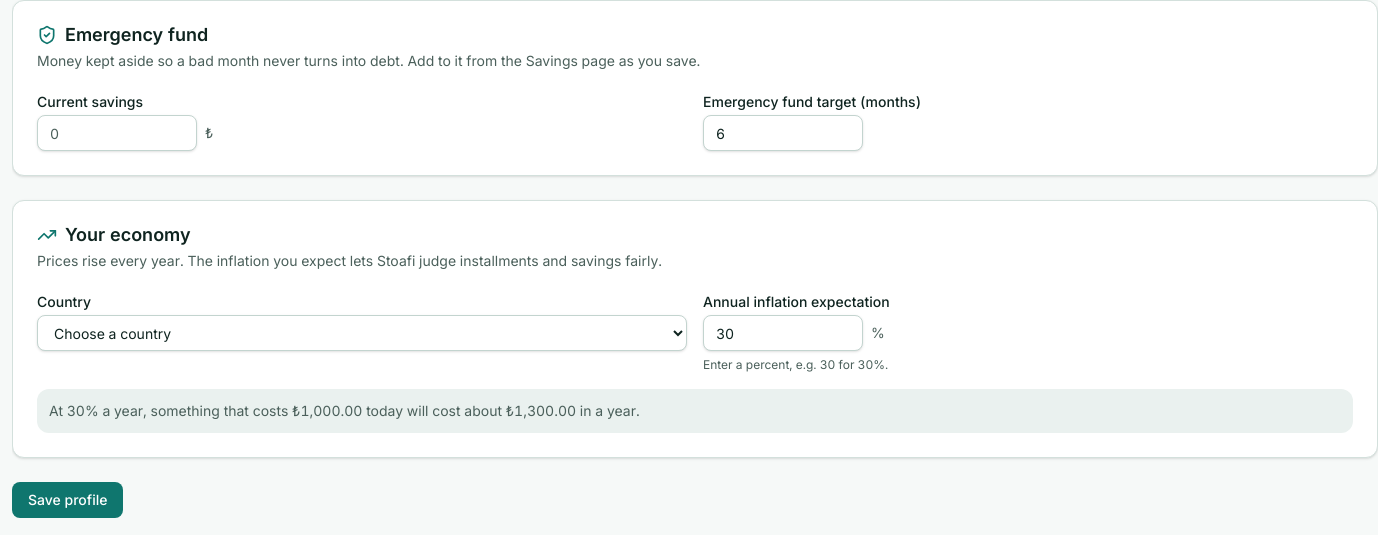
Test: ProfileForm settings › shows what inflation does to a price, and updates as the rate changes
Expected: the text with test id "inflation-insight" shows "₺1,300.00", [49,402,640,419]
Replace the text in the field labelled "Annual inflation expectation" with "50": (783, 333) [703,315,863,351]
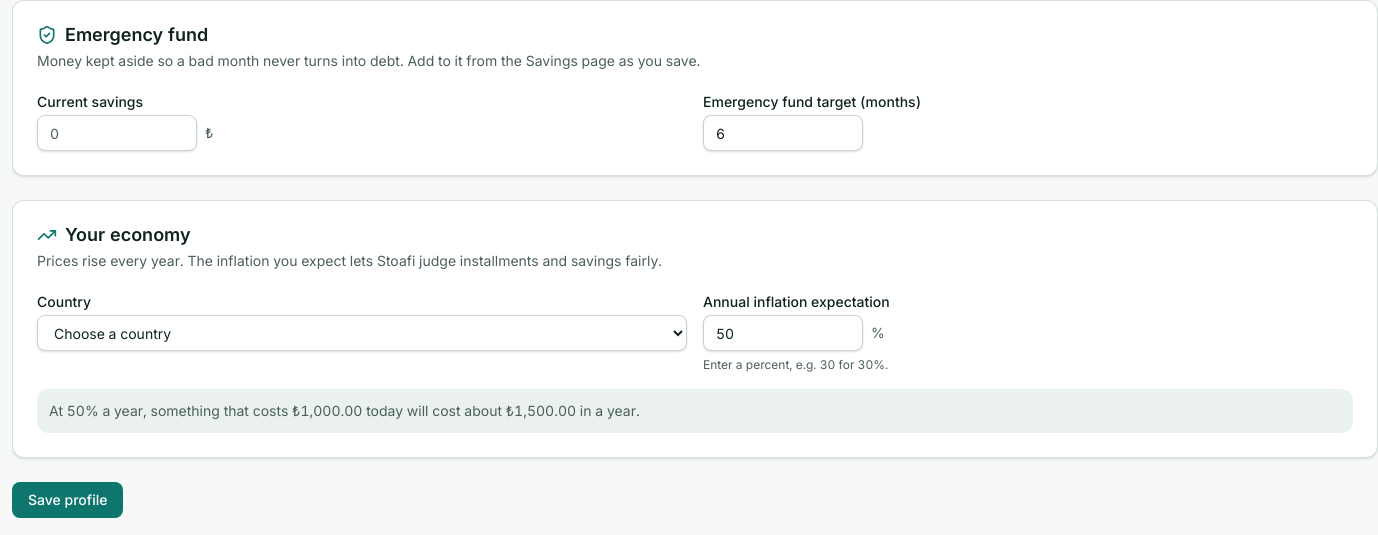
Expected: the text with test id "inflation-insight" shows "₺1,500.00", [49,402,640,419]
